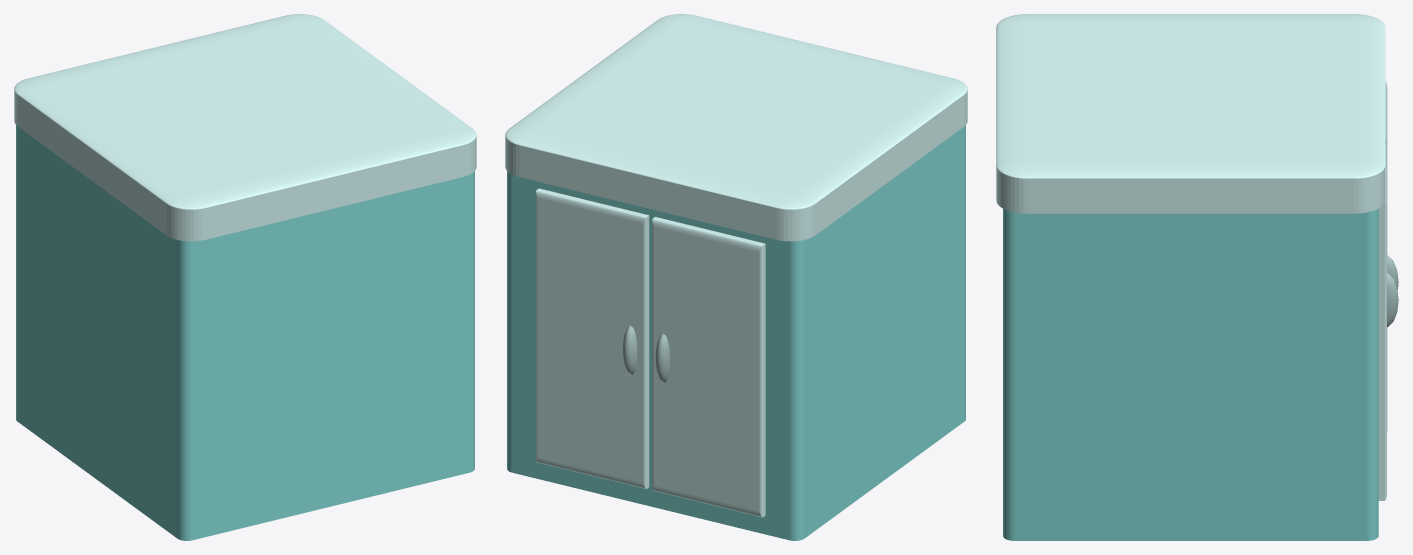
The model's file is dolap.fbx.
3 views of the same model, side by side, from view 1: azimuth 30°, elevation 25°; view 2: azimuth 150°, elevation 25°; view 3: azimuth 270°, elevation 25° (orthographic). The views are drawn at different scales.
Parts seen in each view (by area): view 1: dolap, tepe; view 2: dolap, tepe, kapak2, kapak1, kol1, kol2; view 3: dolap, tepe, kapak1, kol1.
Boxes of the visible parts, left/top/right/bottom form: dolap: left=16, top=125, right=474, bottom=540; tepe: left=14, top=14, right=476, bottom=241; dolap: left=507, top=125, right=965, bottom=540; tepe: left=505, top=14, right=967, bottom=241; kapak2: left=652, top=217, right=765, bottom=517; kapak1: left=536, top=188, right=649, bottom=489; kol1: left=622, top=325, right=637, bottom=375; kol2: left=655, top=333, right=669, bottom=383; dolap: left=1003, top=208, right=1378, bottom=540; tepe: left=996, top=14, right=1385, bottom=213; kapak1: left=1378, top=143, right=1386, bottom=500; kol1: left=1387, top=273, right=1398, bottom=327.
Bounding box in the file's own units: 37.48 × 39.14 × 38.76.
